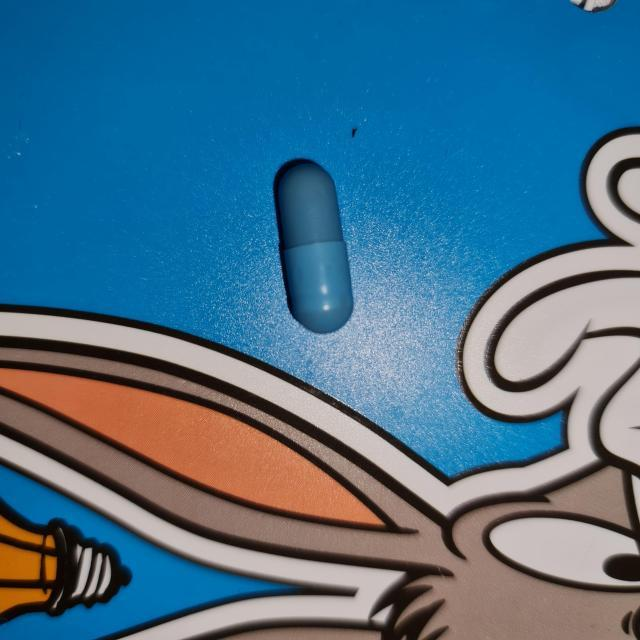pill: (272, 157, 356, 334)
